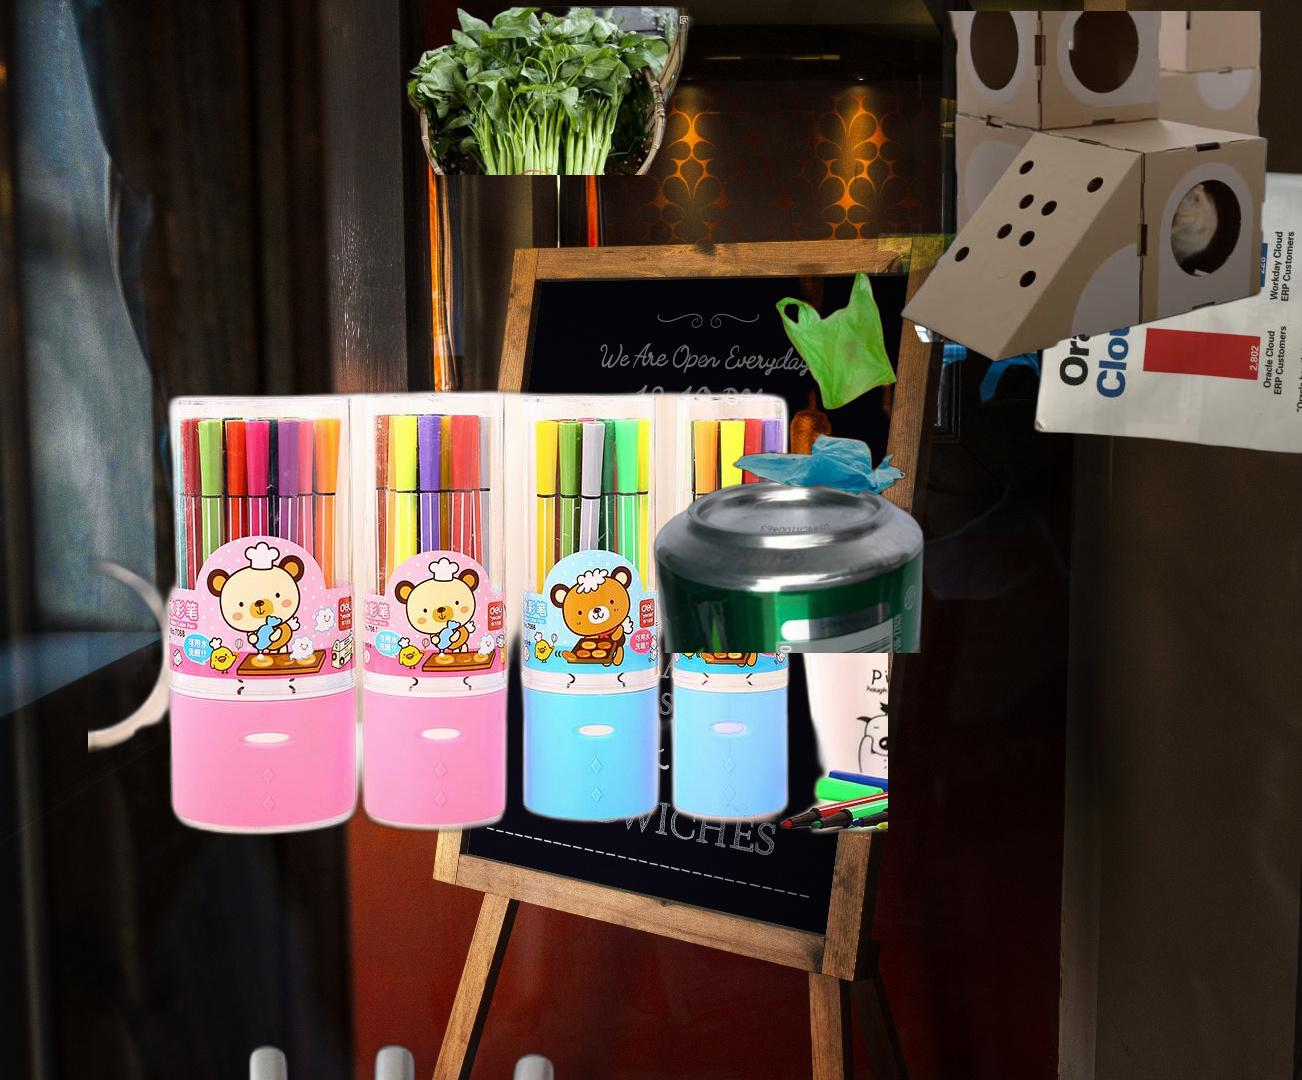biological: (396, 6, 695, 175)
metal-cans: (649, 476, 928, 653)
paper: (1029, 154, 1302, 469)
penholder: (88, 383, 888, 841), (227, 1036, 595, 1080)
plastic-bag: (732, 263, 908, 498)
trashbox-cardboard: (885, 11, 1274, 364)
